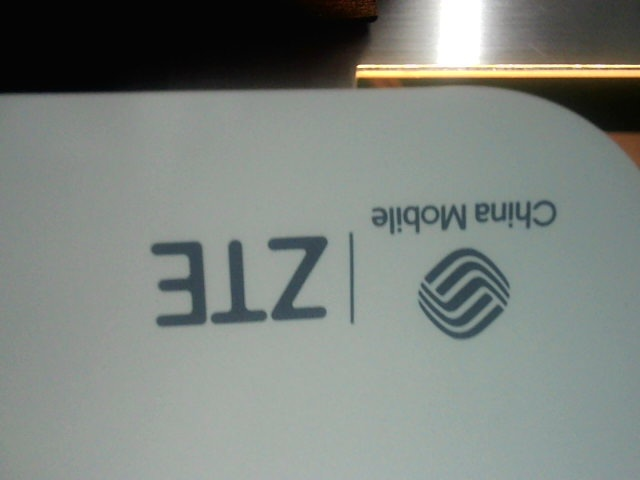AL_ZTEChinaMobile: (145, 190, 575, 341)
